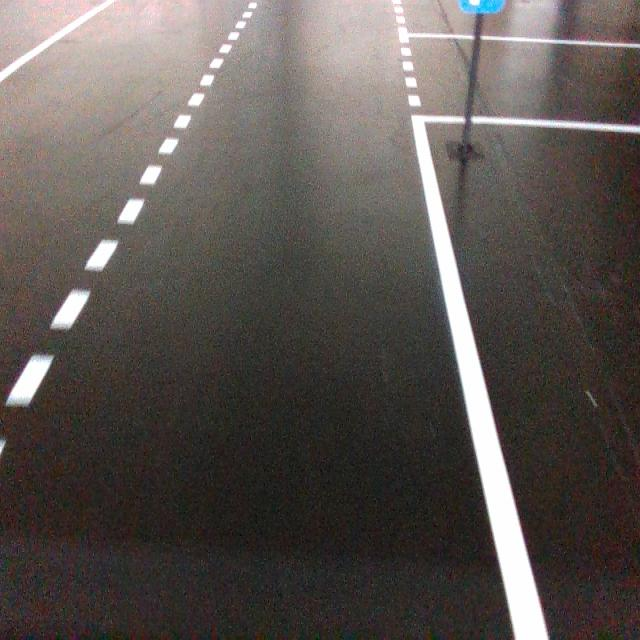parking-sign: (457, 0, 507, 15)
